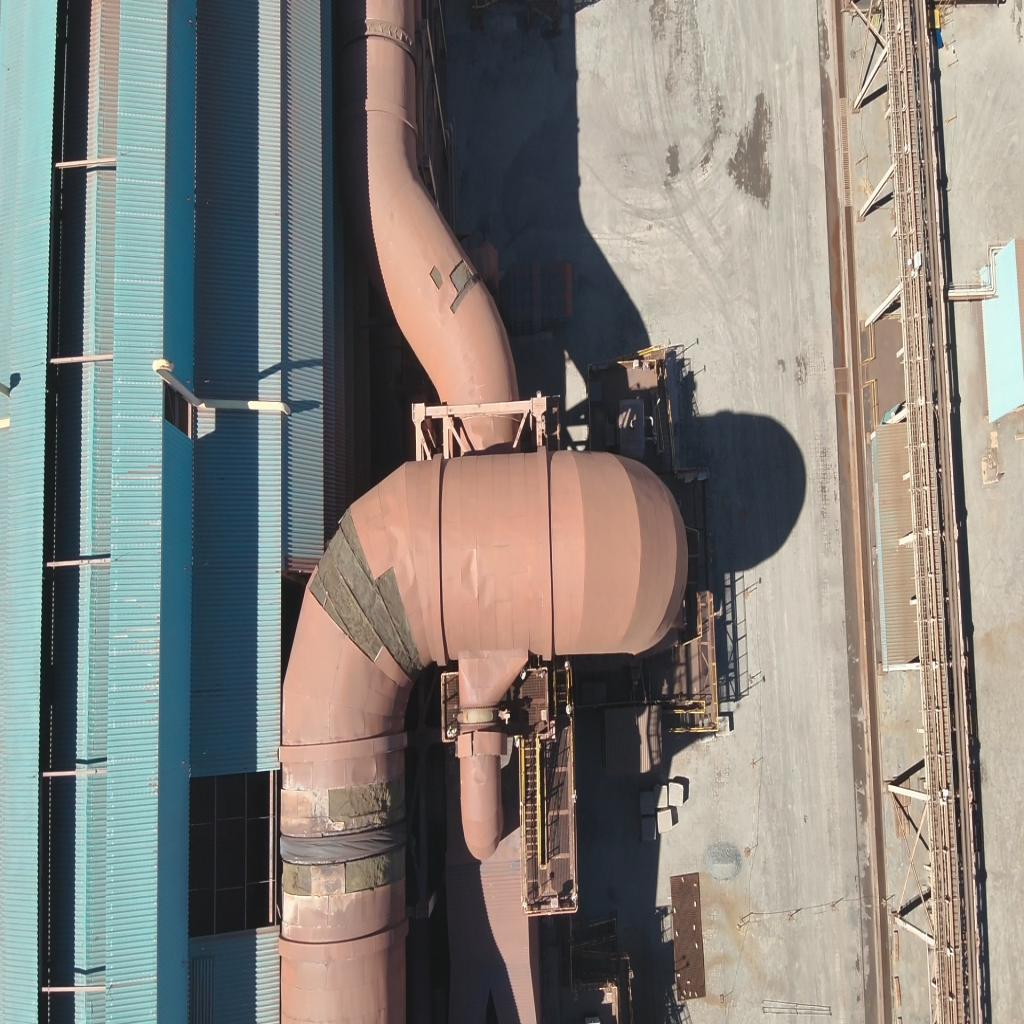Failures: (316, 514, 422, 680), (328, 781, 408, 823), (342, 852, 409, 886), (448, 258, 477, 308), (280, 868, 313, 899), (425, 251, 444, 289)
